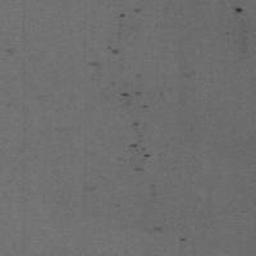Inclusion: (106, 6, 142, 55), (129, 142, 152, 173), (120, 90, 150, 110), (83, 182, 97, 193), (88, 60, 99, 68), (154, 225, 165, 233), (233, 6, 243, 14), (178, 236, 188, 243), (132, 120, 141, 127)
